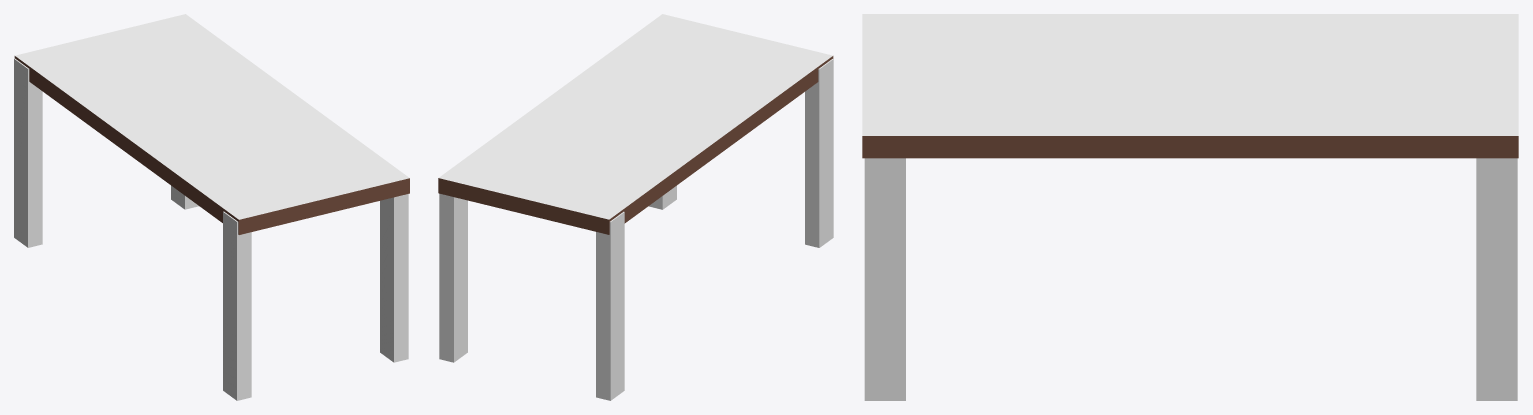
File: normal_table.fbx
3 views of the same model, side by side, from view 1: azimuth 30°, elevation 25°; view 2: azimuth 150°, elevation 25°; view 3: azimuth 270°, elevation 25° (orthographic). The views are drawn at different scales.
Parts seen in each view (by area): view 1: Cube; view 2: Cube; view 3: Cube.
Part boxes in pixels (x1,y1,x2,y2): Cube: [14, 14, 409, 400]; Cube: [438, 14, 833, 400]; Cube: [862, 14, 1518, 400].
Bounding box in the file's own units: 114 × 115 × 258.
